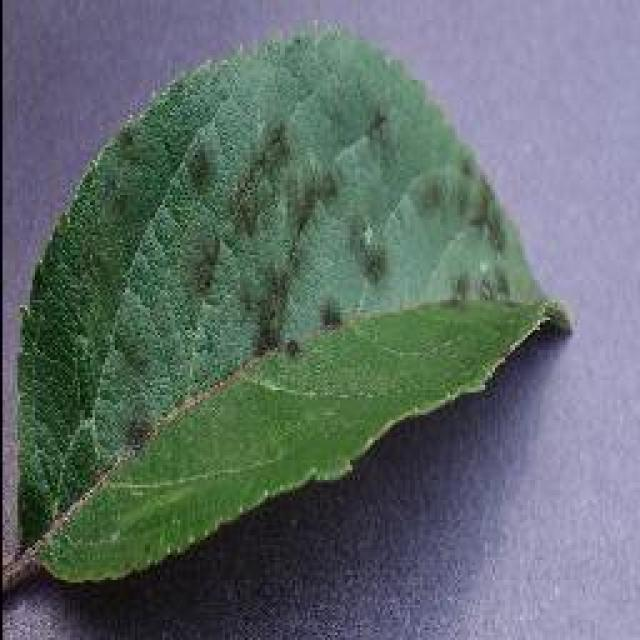apple scab disease: (10, 22, 572, 588)
